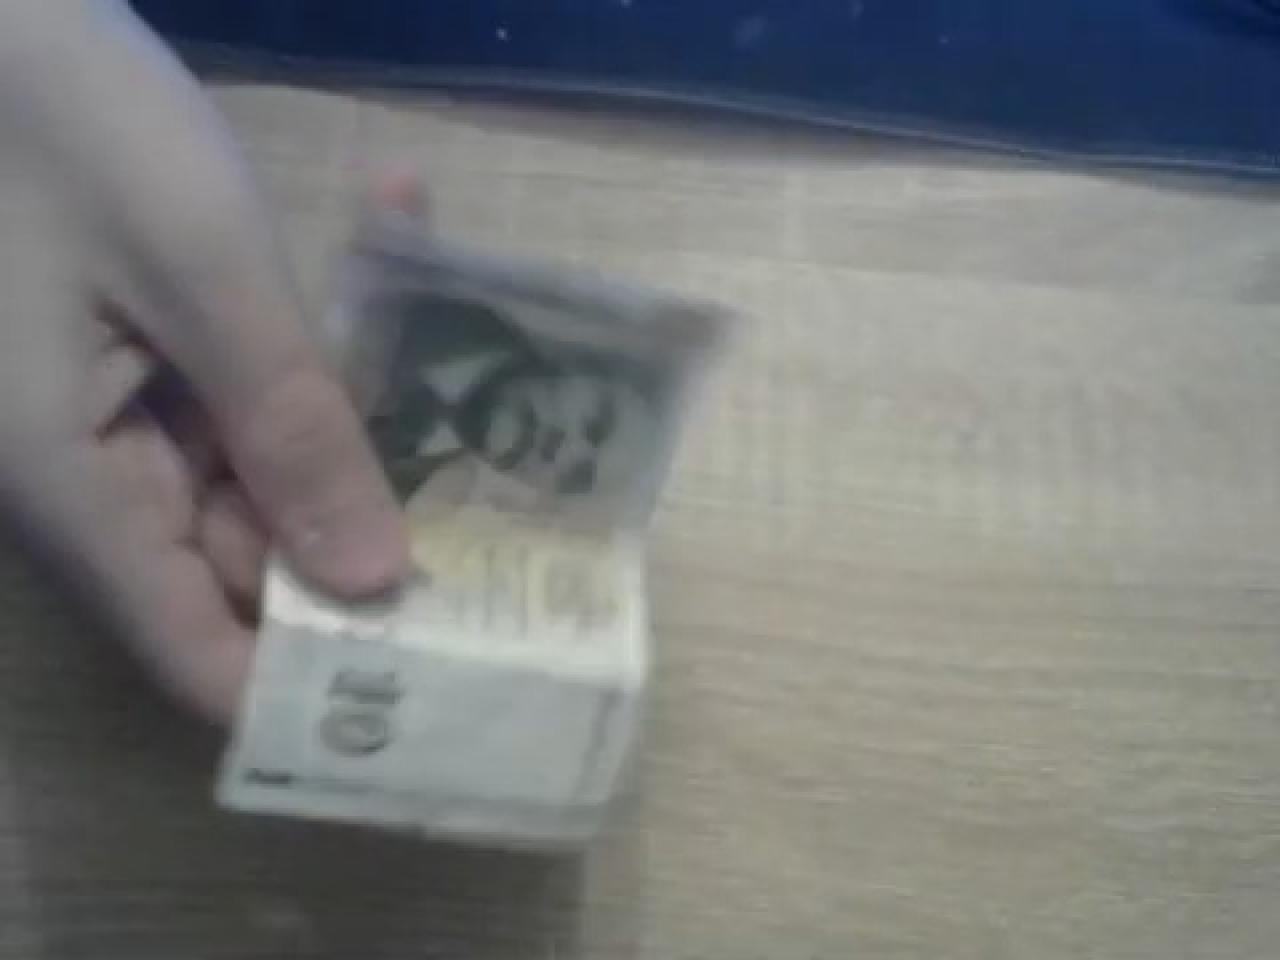10leva: (214, 227, 723, 859)
